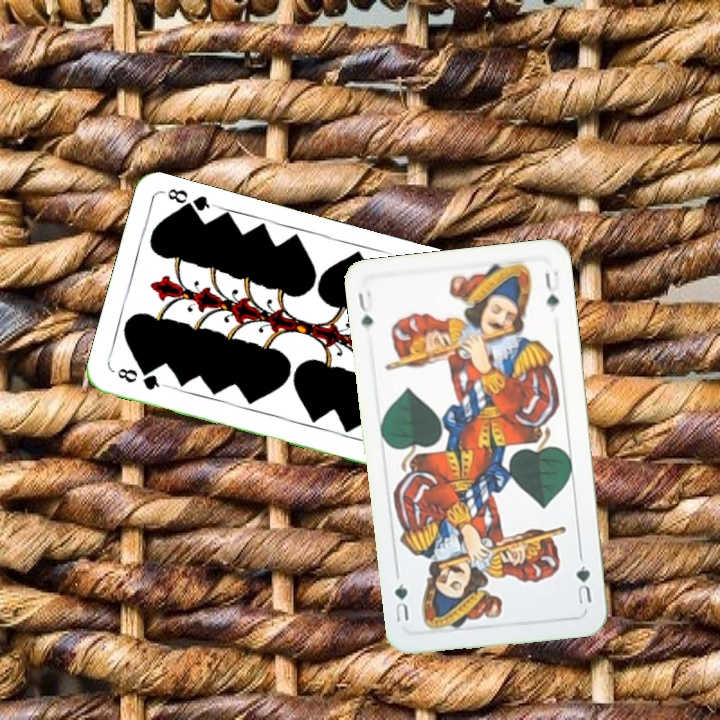G8: (113, 364, 168, 393)
GU: (571, 560, 595, 609), (354, 287, 376, 331)
